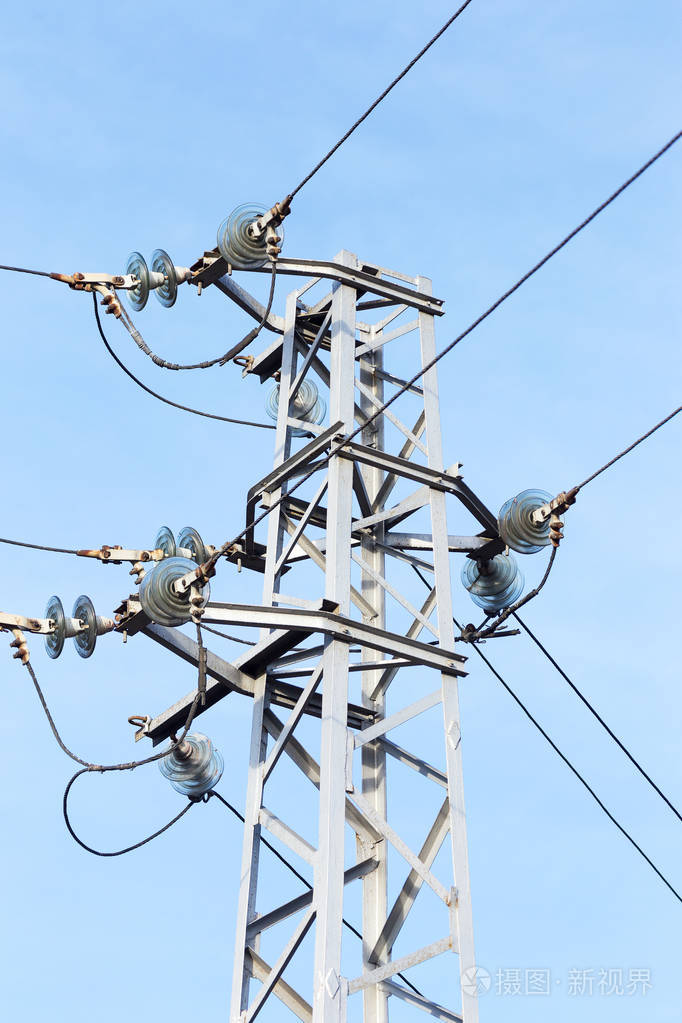insulator: (158, 728, 226, 800), (136, 561, 208, 626), (494, 489, 562, 556), (214, 204, 281, 266), (41, 593, 99, 662), (459, 554, 525, 612), (267, 378, 328, 434), (125, 249, 176, 310), (153, 523, 210, 557)
